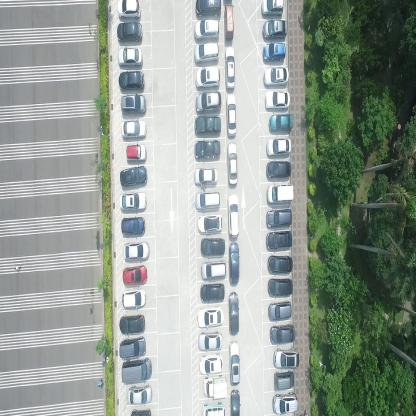car: (122, 355, 152, 383), (203, 370, 229, 396), (119, 164, 148, 186), (195, 89, 222, 112), (198, 302, 225, 325), (119, 334, 146, 357), (197, 210, 223, 233), (272, 391, 298, 414), (120, 92, 147, 114), (267, 182, 294, 204), (201, 257, 227, 279), (124, 238, 150, 260), (119, 310, 145, 332), (262, 16, 288, 38), (274, 347, 300, 369), (119, 190, 147, 210), (201, 233, 225, 256), (226, 138, 238, 184), (194, 17, 218, 40), (198, 328, 223, 350), (194, 40, 219, 62), (194, 138, 220, 159), (118, 69, 144, 90), (263, 65, 289, 86), (227, 190, 239, 235), (116, 22, 143, 42), (265, 229, 292, 249), (228, 338, 240, 383), (269, 324, 296, 344), (194, 114, 222, 133), (124, 262, 148, 284), (195, 65, 220, 86), (200, 280, 225, 301), (198, 351, 223, 372), (266, 208, 292, 228), (267, 277, 293, 297), (267, 254, 293, 274), (265, 159, 292, 178), (229, 238, 240, 284), (228, 290, 239, 336), (194, 164, 218, 185), (268, 300, 292, 321), (118, 46, 143, 66), (224, 43, 235, 88), (121, 118, 147, 137), (266, 138, 292, 157), (264, 88, 290, 107), (195, 0, 222, 18), (263, 40, 286, 61), (123, 287, 147, 307), (268, 112, 292, 132), (128, 384, 152, 404), (117, 0, 141, 20), (121, 216, 146, 235), (195, 189, 221, 207), (273, 370, 294, 392), (201, 398, 226, 416), (226, 91, 236, 134), (126, 142, 148, 161), (223, 1, 234, 38), (260, 0, 282, 16), (230, 387, 241, 415), (130, 408, 151, 415)
